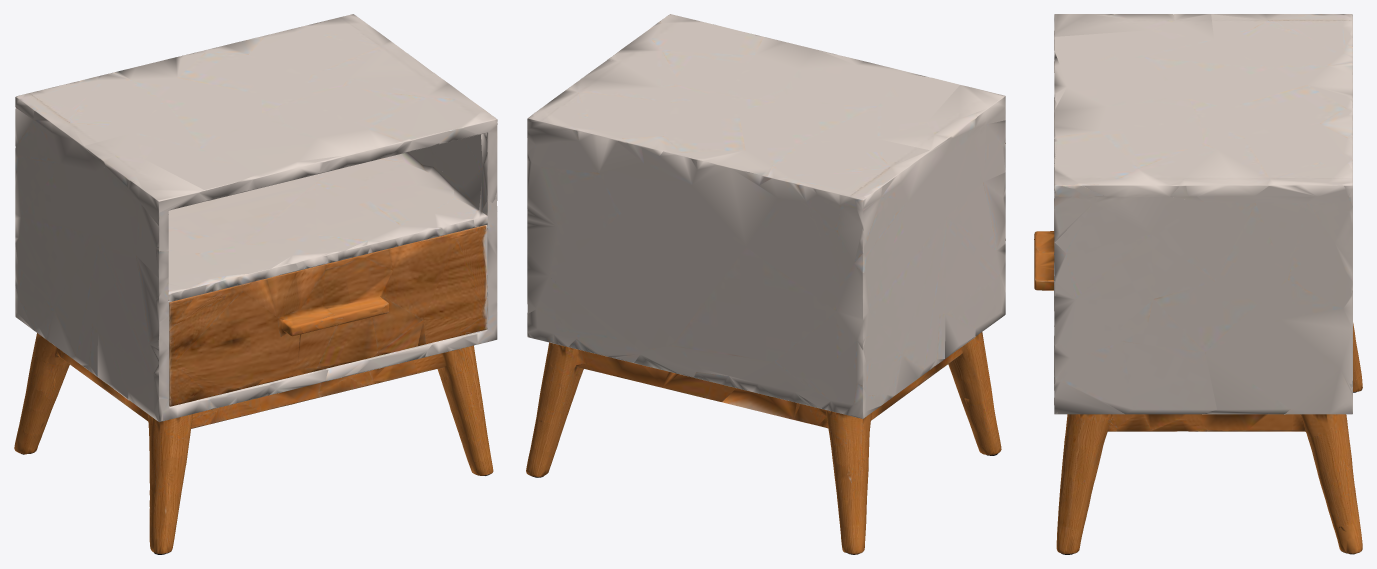
Rendered from nightstand-oak.glb.
3 renders of one model, left to right at view 1: azimuth 30°, elevation 25°; view 2: azimuth 150°, elevation 25°; view 3: azimuth 270°, elevation 25°, orthographic. The views are drawn at different scales.
Visible parts, largest first — view 1: Mesh_0; view 2: Mesh_0; view 3: Mesh_0.
Part boxes in pixels (x1=…): Mesh_0: x1=14, y1=14, x2=497, y2=554; Mesh_0: x1=526, y1=14, x2=1005, y2=554; Mesh_0: x1=1034, y1=14, x2=1362, y2=554.
Size of the model in its own units: 0.5449 by 0.55 by 0.4408.
1 material, 1 textured.
